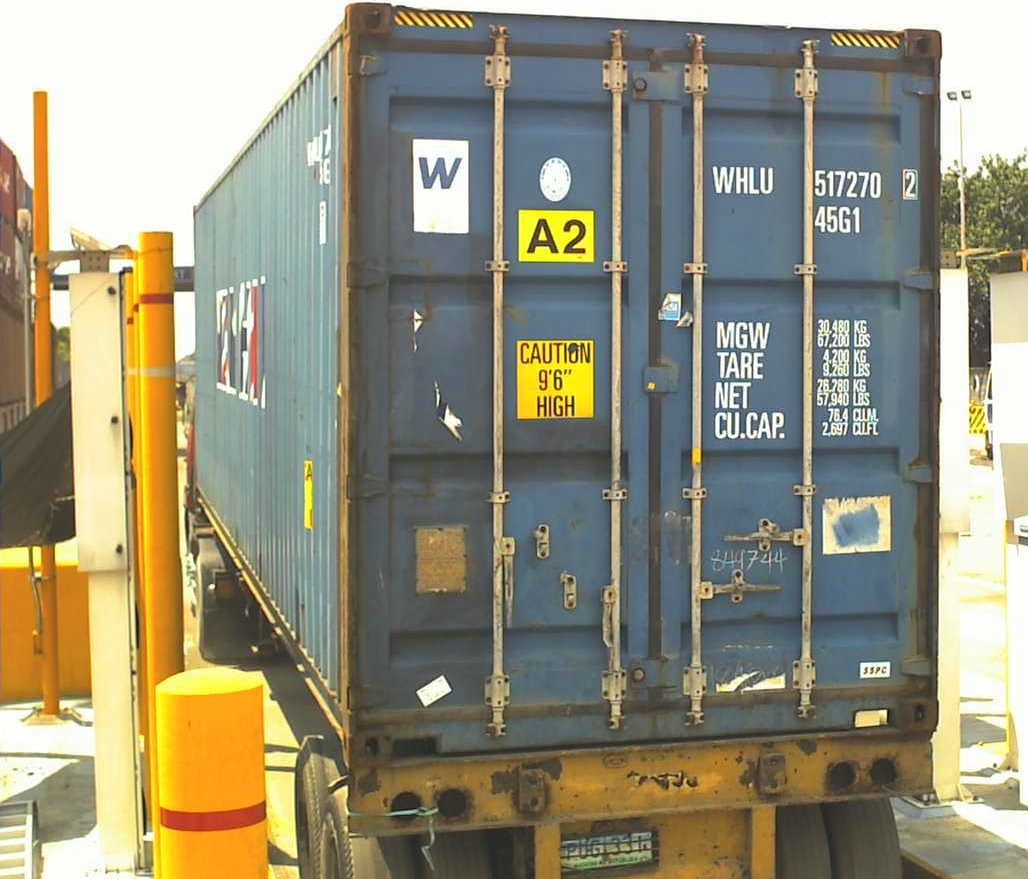container_door: (350, 3, 943, 759)
